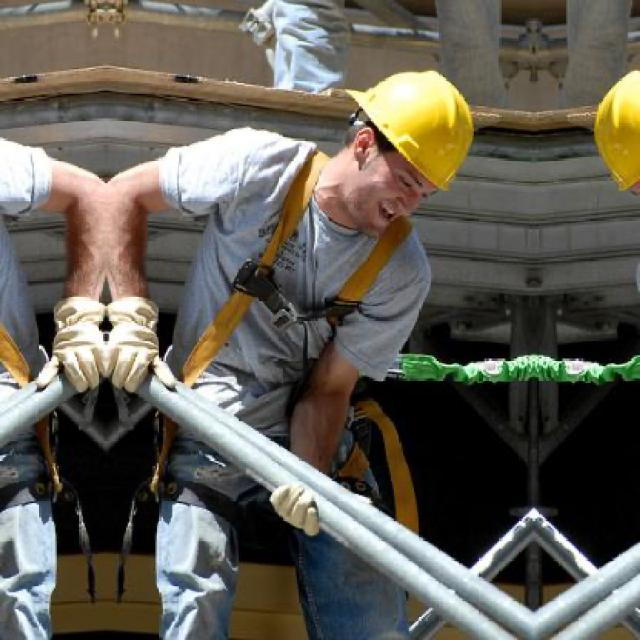con casco: (264, 47, 487, 229)
